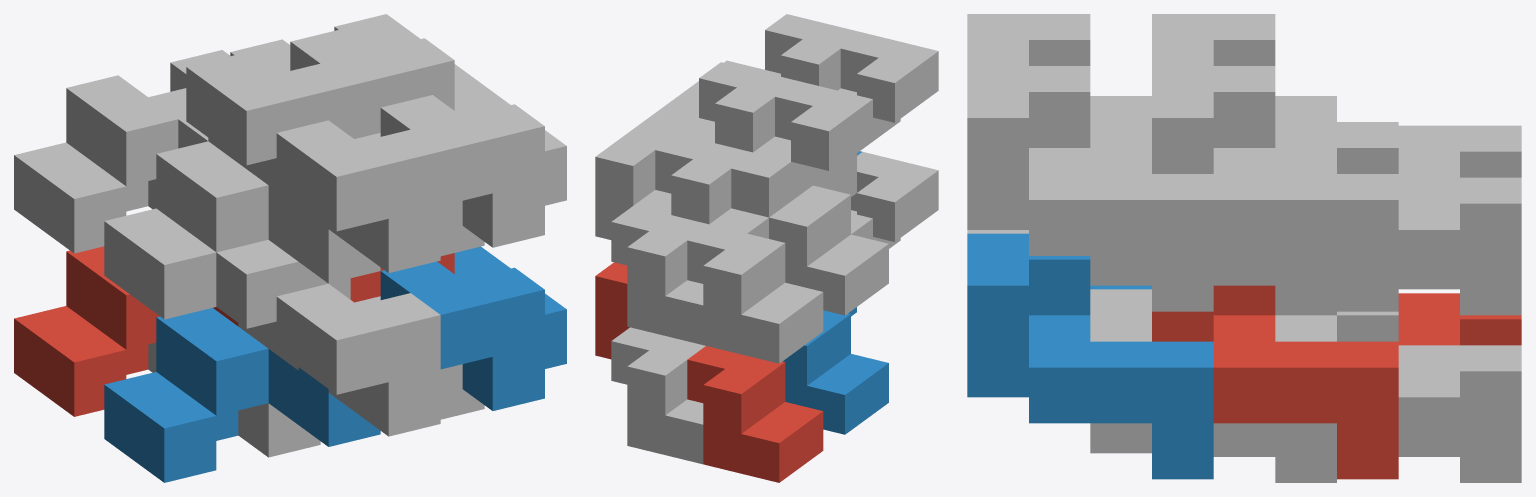
Rendered from tiling.obj.
3 renders of one model, left to right at view 1: azimuth 30°, elevation 25°; view 2: azimuth 150°, elevation 25°; view 3: azimuth 270°, elevation 25°, orthographic. The views are drawn at different scales.
Visible parts, largest first — view 1: copy_1_domain_2, copy_1_domain_4, copy_1_domain_3, copy_2_domain_2, copy_2_domain_4, copy_2_domain_8, copy_2_domain_6, copy_1_domain_1, copy_2_domain_3, copy_2_domain_7, copy_2_domain_1, copy_1_domain_6 (+3 smaller); view 2: copy_1_domain_3, copy_1_domain_1, copy_2_domain_7, copy_2_domain_3, copy_1_domain_7, copy_1_domain_4, copy_1_domain_5, copy_1_domain_2, copy_2_domain_4, copy_2_domain_8, copy_2_domain_2, copy_2_domain_5 (+1 smaller); view 3: copy_2_domain_8, copy_2_domain_6, copy_2_domain_7, copy_2_domain_5, copy_1_domain_5, copy_1_domain_7, copy_2_domain_3, copy_1_domain_3, copy_2_domain_4, copy_1_domain_6, copy_1_domain_8, copy_1_domain_1 (+3 smaller).
Part boxes in pixels (left/top/right/bottom): copy_1_domain_2: left=104, top=308, right=380, bottom=482; copy_1_domain_4: left=104, top=141, right=380, bottom=319; copy_1_domain_3: left=14, top=75, right=238, bottom=253; copy_2_domain_2: left=276, top=283, right=462, bottom=436; copy_2_domain_4: left=276, top=120, right=462, bottom=272; copy_2_domain_8: left=380, top=80, right=566, bottom=247; copy_2_domain_6: left=380, top=246, right=566, bottom=410; copy_1_domain_1: left=14, top=246, right=238, bottom=416; copy_2_domain_3: left=186, top=39, right=350, bottom=206; copy_2_domain_7: left=290, top=14, right=475, bottom=138; copy_2_domain_1: left=216, top=239, right=350, bottom=370; copy_1_domain_6: left=238, top=389, right=484, bottom=457; copy_1_domain_3: left=687, top=152, right=823, bottom=363; copy_1_domain_1: left=687, top=346, right=823, bottom=482; copy_2_domain_7: left=595, top=62, right=796, bottom=239; copy_2_domain_3: left=671, top=80, right=872, bottom=224; copy_1_domain_7: left=611, top=134, right=714, bottom=344; copy_1_domain_4: left=769, top=151, right=888, bottom=315; copy_1_domain_5: left=611, top=327, right=705, bottom=464; copy_1_domain_2: left=783, top=307, right=888, bottom=434; copy_2_domain_4: left=838, top=32, right=938, bottom=152; copy_2_domain_8: left=661, top=14, right=862, bottom=117; copy_2_domain_2: left=851, top=152, right=938, bottom=248; copy_2_domain_5: left=595, top=262, right=629, bottom=359; copy_2_domain_8: left=967, top=66, right=1213, bottom=311; copy_2_domain_6: left=967, top=233, right=1213, bottom=479; copy_2_domain_7: left=1152, top=66, right=1398, bottom=311; copy_2_domain_5: left=1152, top=285, right=1398, bottom=479; copy_1_domain_5: left=1275, top=315, right=1521, bottom=482; copy_1_domain_7: left=1275, top=148, right=1521, bottom=315; copy_2_domain_3: left=1152, top=14, right=1398, bottom=173; copy_1_domain_3: left=1275, top=96, right=1521, bottom=177; copy_2_domain_4: left=967, top=14, right=1151, bottom=147; copy_1_domain_6: left=1090, top=315, right=1336, bottom=482; copy_1_domain_8: left=1090, top=148, right=1336, bottom=315; copy_1_domain_1: left=1398, top=293, right=1521, bottom=345.
Bounding box in the file's own units: 6 × 7 × 9.
